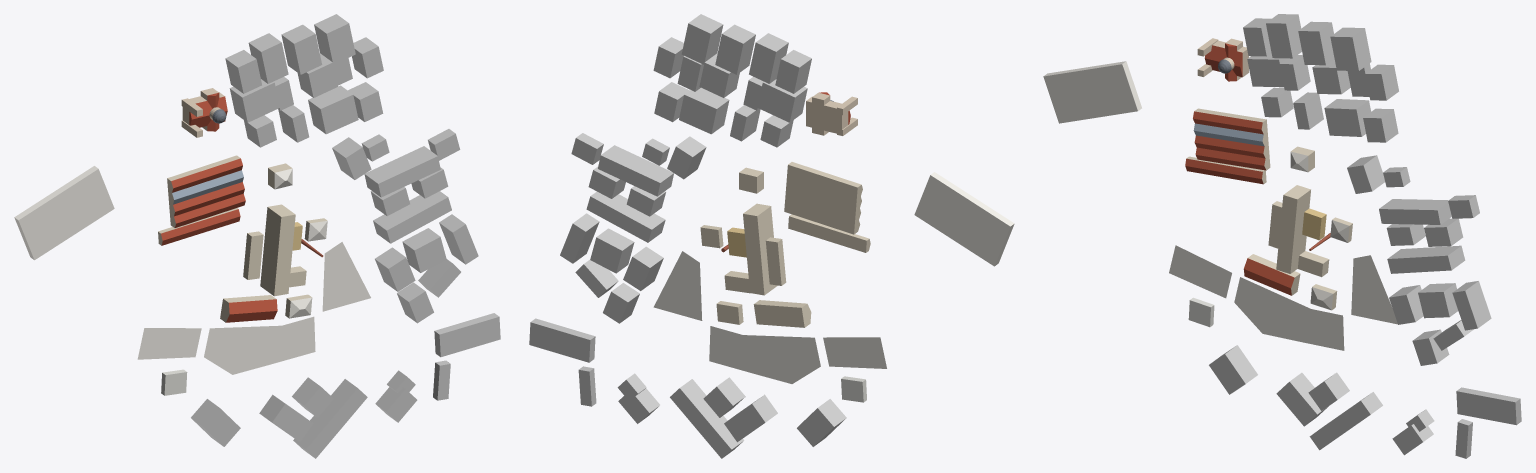
Rendered from alatini_thess.obj.
3 renders of one model, left to right at view 1: azimuth 30°, elevation 25°; view 2: azimuth 150°, elevation 25°; view 3: azimuth 330°, elevation 25°, orthographic.
Size of the model in its own units: 481 by 408 by 36.
